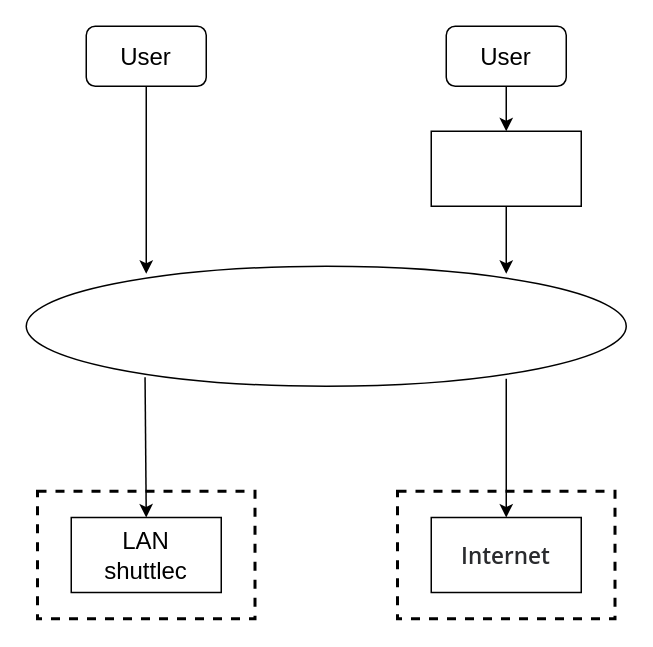
Image size: 653x647. Some labels were removed from this diagram. Each missing label, with the centre of its shape:
"local shuttlec" belongs at [505,168].
"public server shuttles" belongs at [325,325].
